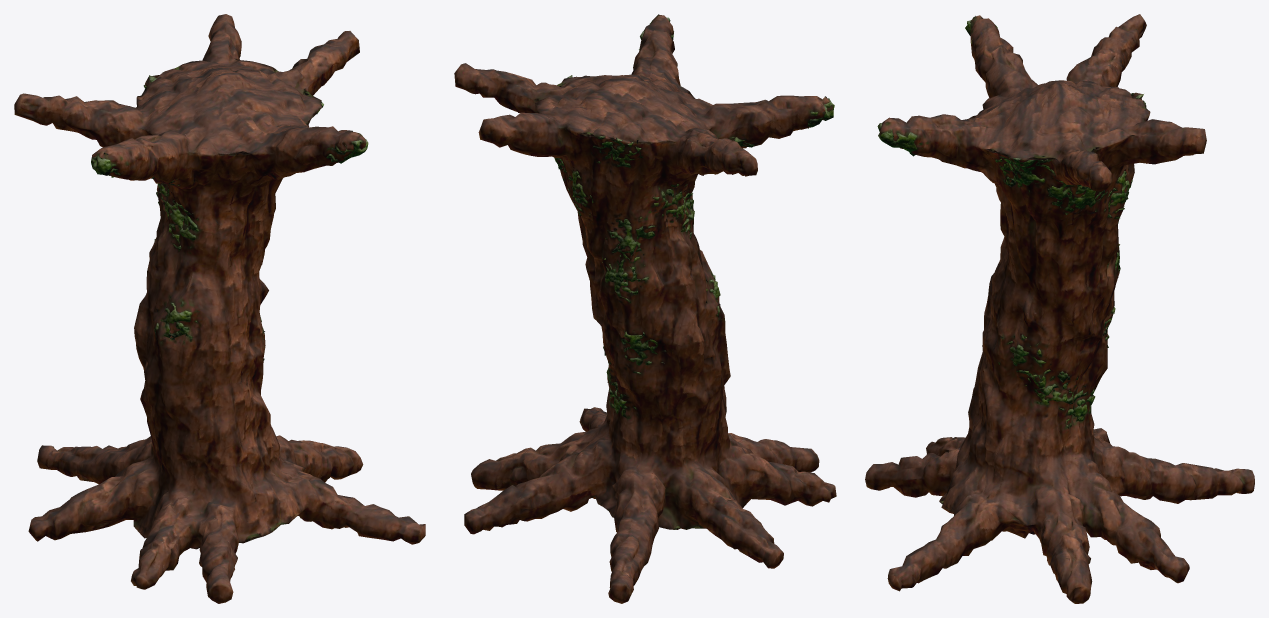
Rendered from rtree_b1.glb.
3 renders of one model, left to right at view 1: azimuth 30°, elevation 25°; view 2: azimuth 150°, elevation 25°; view 3: azimuth 270°, elevation 25°, orthographic. The views are drawn at different scales.
Parts seen in each view (by area): view 1: bark, moss; view 2: bark, moss; view 3: bark, moss.
Part boxes in pixels (left/top/right/bottom): bark: left=14, top=14, right=425, bottom=603; moss: left=91, top=72, right=368, bottom=360; bark: left=454, top=14, right=836, bottom=603; moss: left=554, top=14, right=834, bottom=417; bark: left=865, top=14, right=1254, bottom=603; moss: left=877, top=16, right=1145, bottom=428.
Bounding box in the file's own units: 0.9828 × 1.28 × 0.9925.
Materials: 2 (2 with a texture image).
